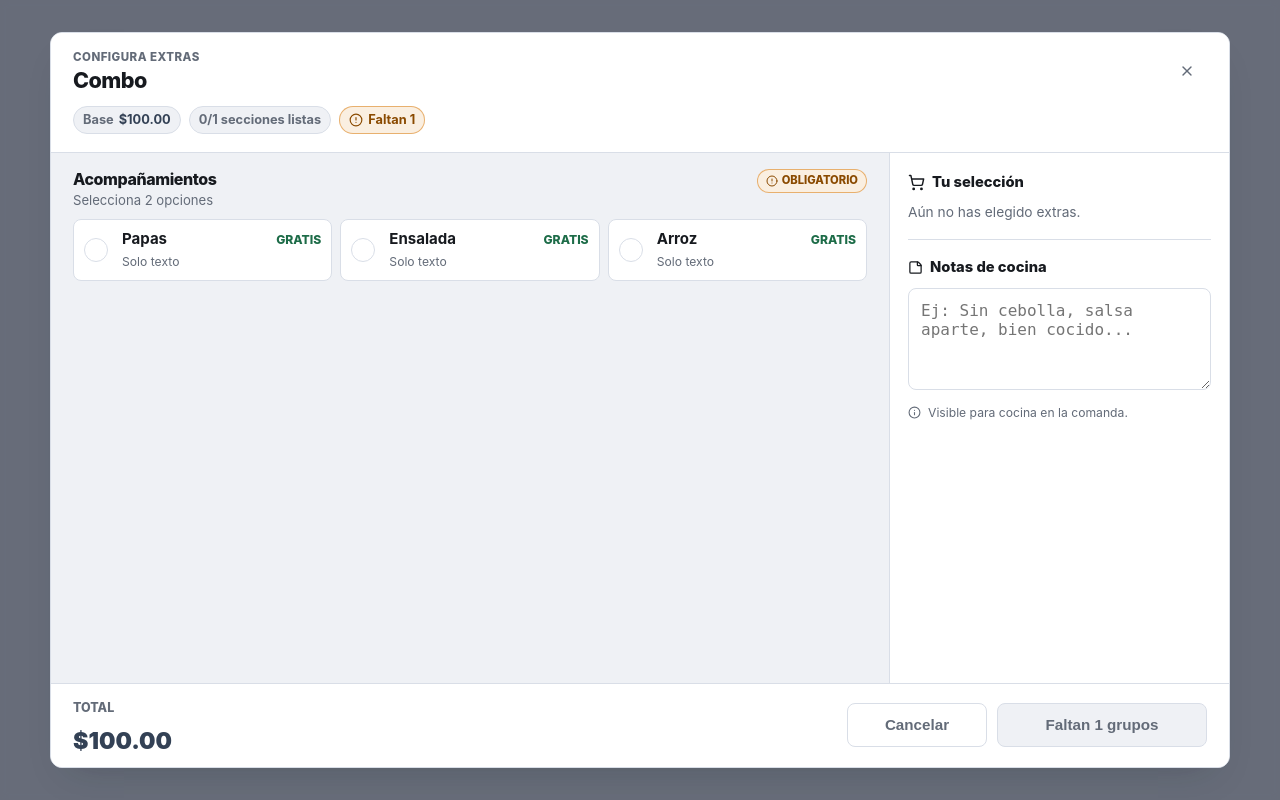
Test: ProductModifiersModal selection rules › exige el mínimo de un grupo múltiple obligatorio
Expected: the button "Faltan 1 grupos" is disabled, [997,703,1207,747]
Step 1. Click the checkbox labelled "Papas Gratis Solo texto" → point(203, 250), box [73,219,332,281]
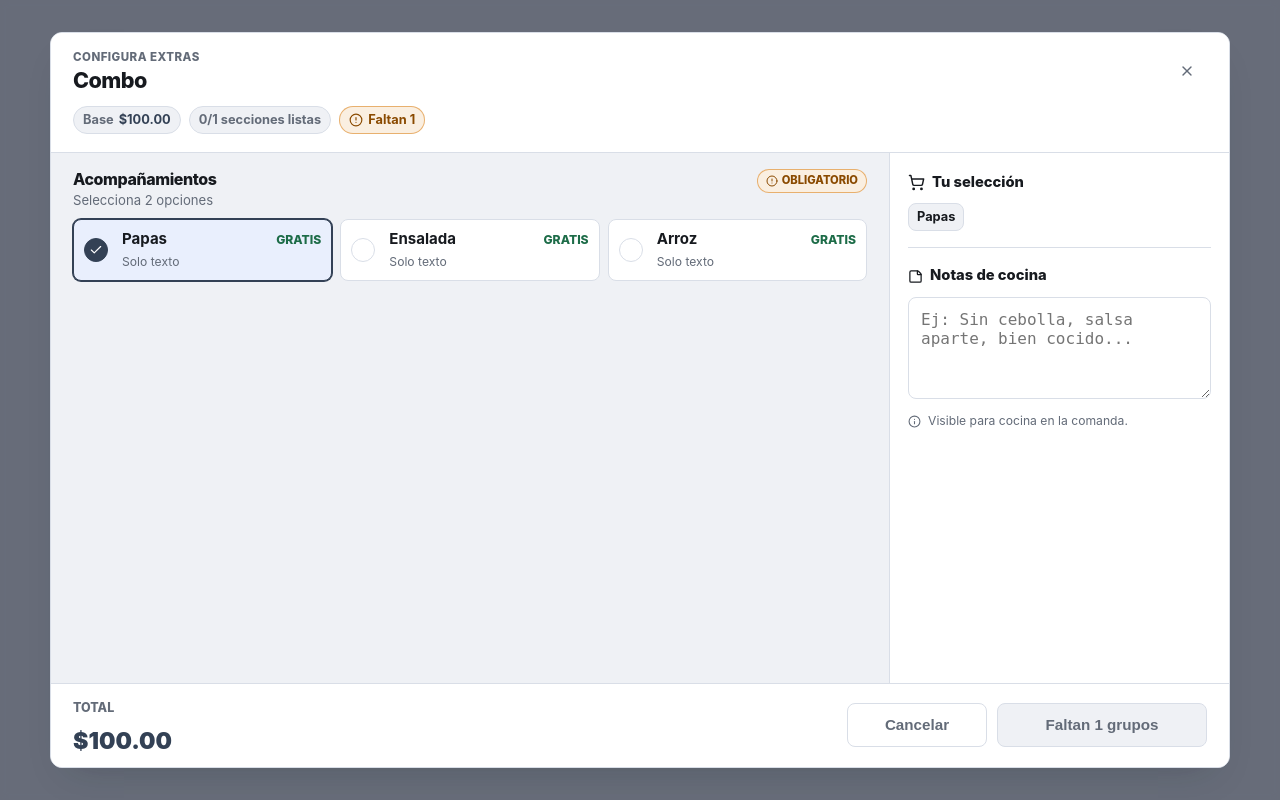
Expected: the button "Faltan 1 grupos" is disabled, [997,703,1207,747]
Step 2. Click the checkbox labelled "Ensalada Gratis Solo texto" → point(470, 250), box [340,219,600,281]
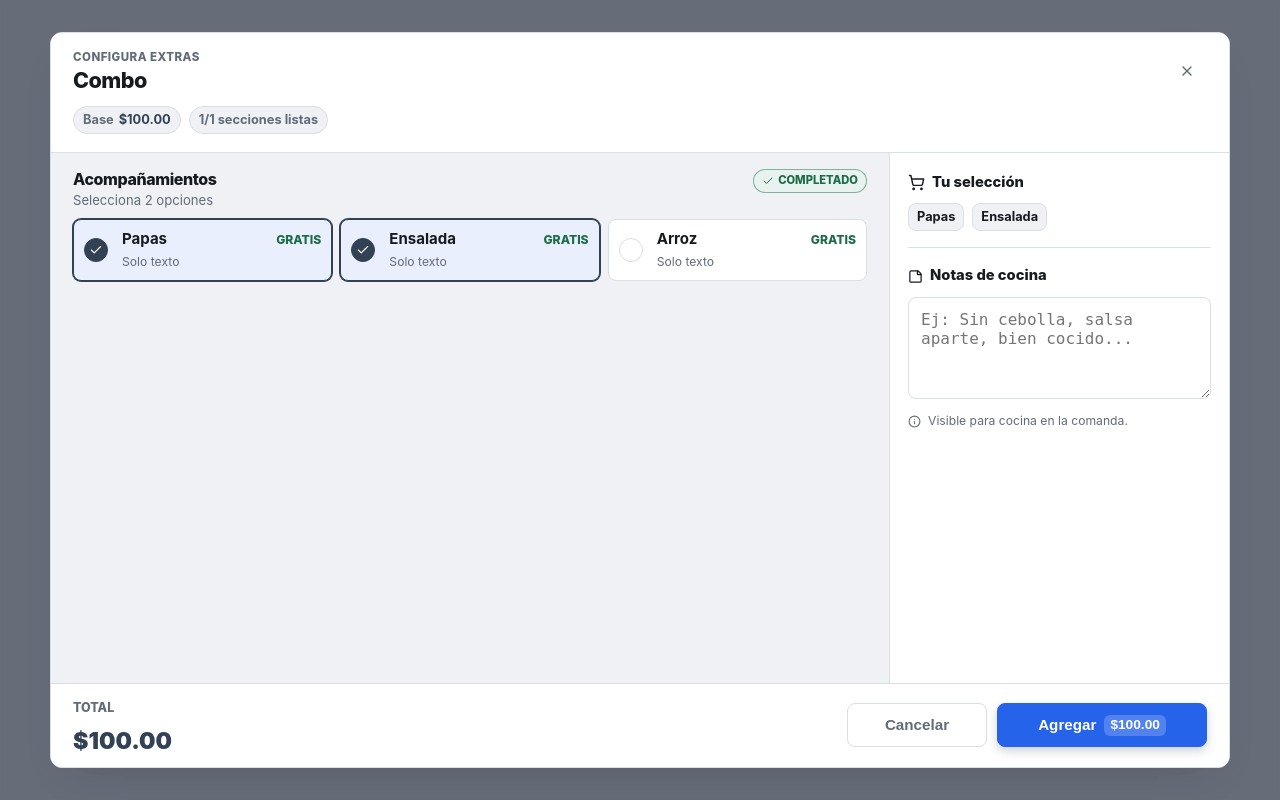
Expected: the checkbox labelled "Arroz Gratis Solo texto" is disabled, [608,219,867,281]
Expected: the button "Agregar $100.00" is enabled, [997,703,1207,747]
